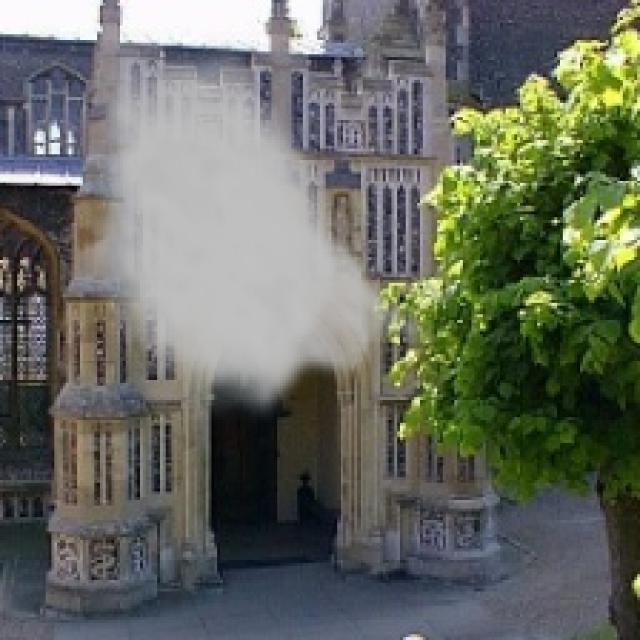Smoke: (83, 31, 446, 426)
